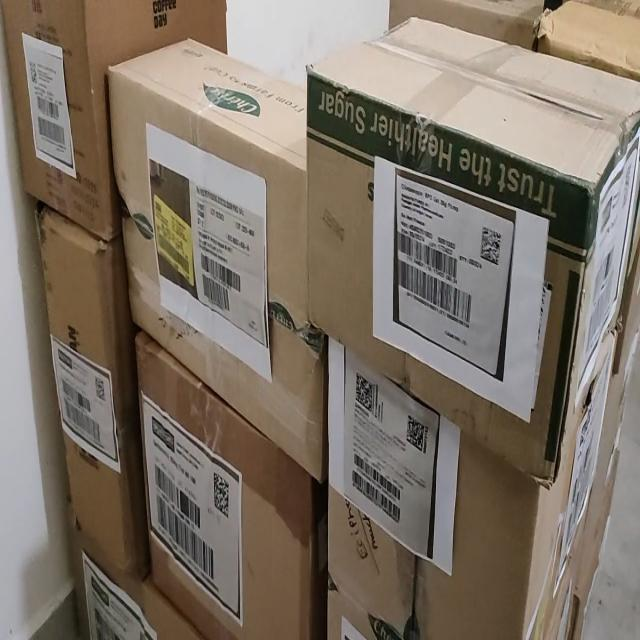BoxFace: (304, 57, 596, 500), (106, 34, 328, 484), (325, 334, 542, 637), (133, 328, 323, 637), (33, 201, 149, 580), (2, 0, 103, 233)
